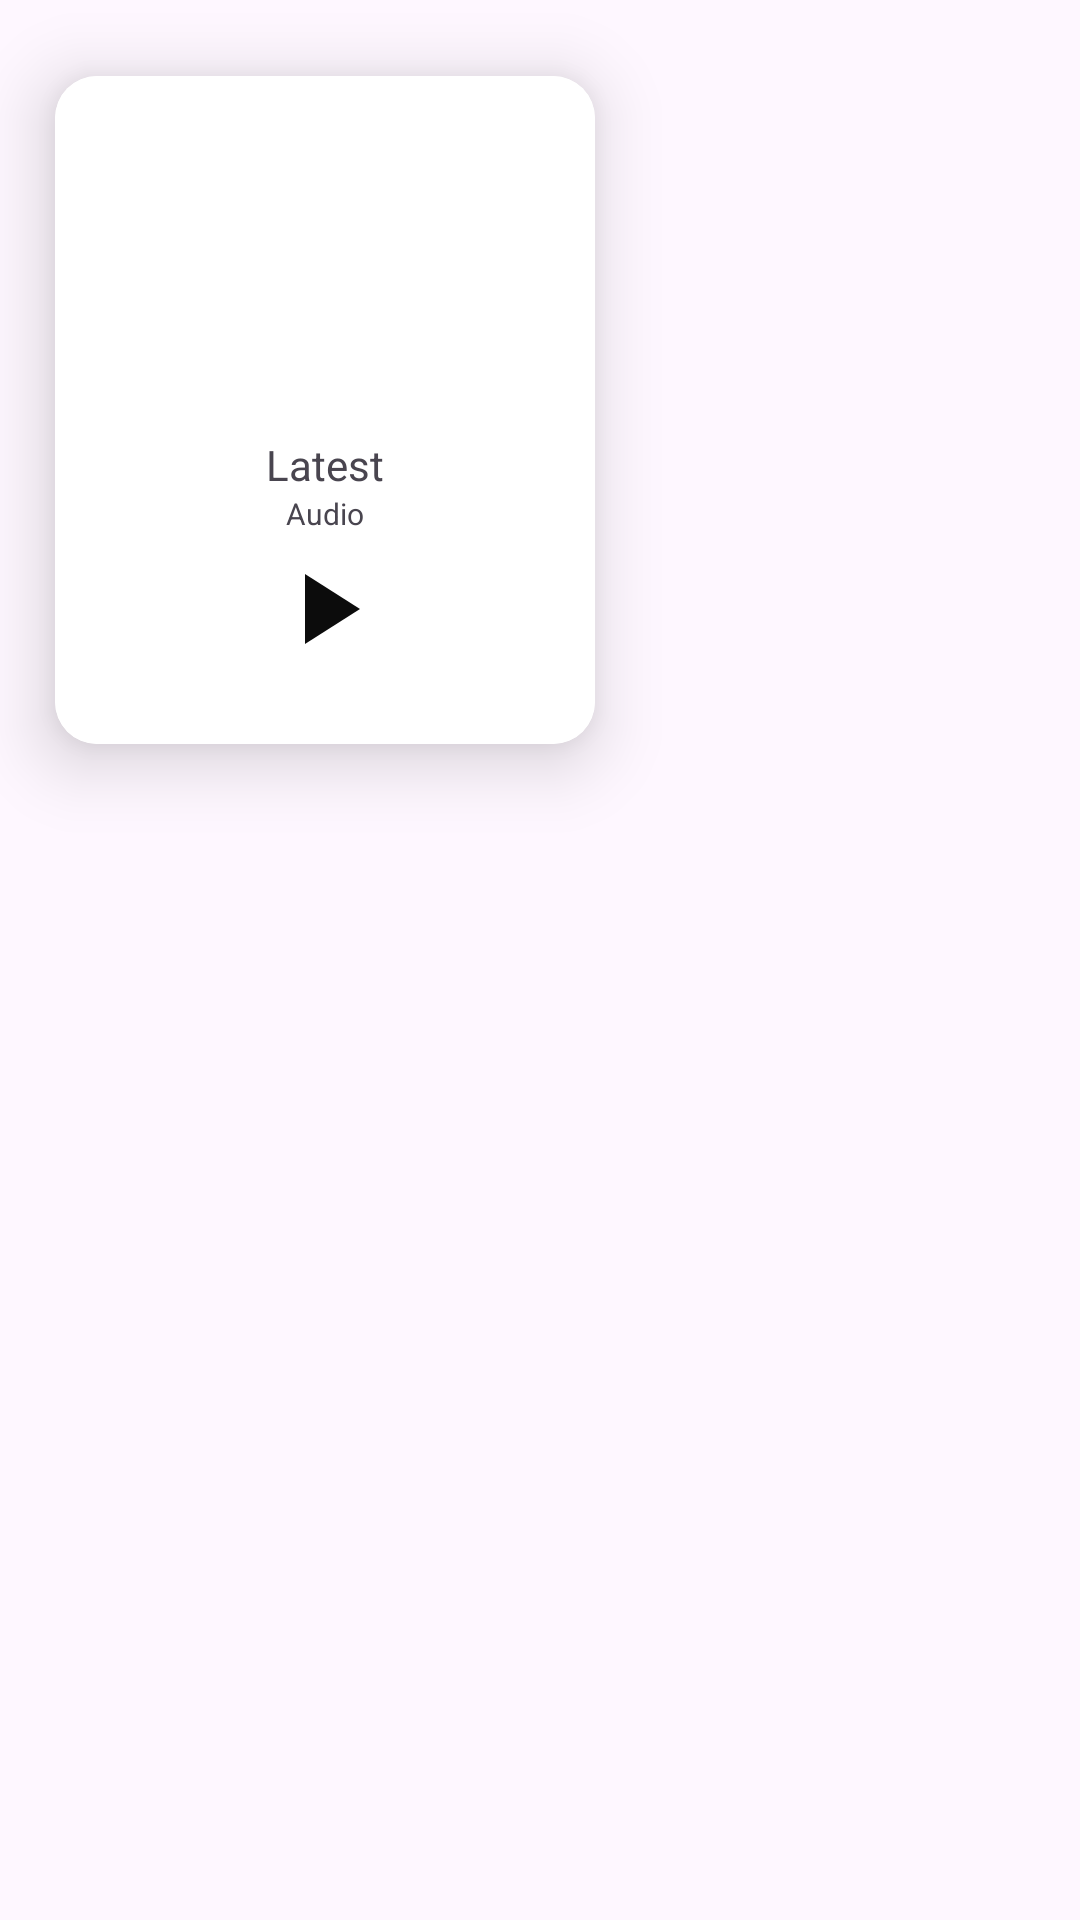

Screen size 1080*1920. Icon name, then its box in pixels as (x1, y1, x2, y2):
play arrow: (305, 574, 360, 644)
